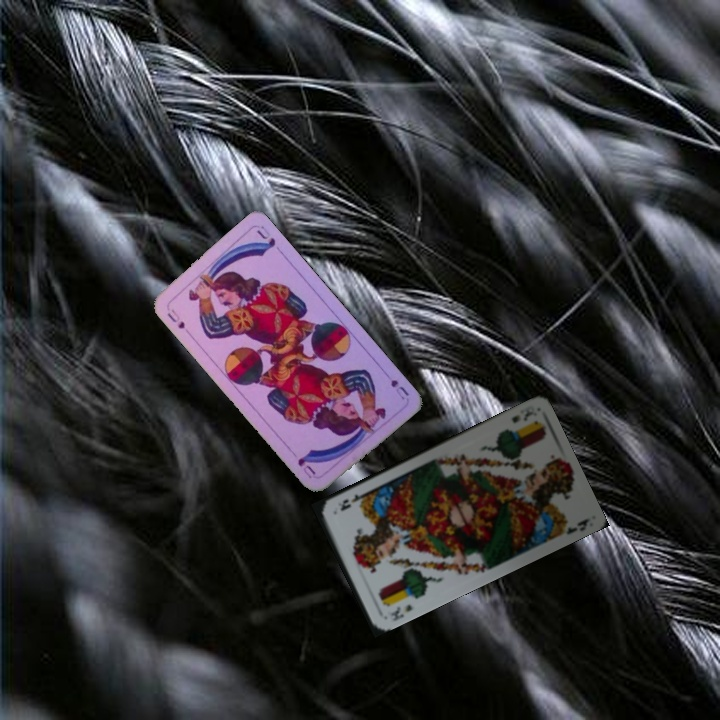EK: (387, 600, 415, 624), (507, 404, 537, 426)
SU: (379, 367, 412, 402), (163, 304, 188, 331)
